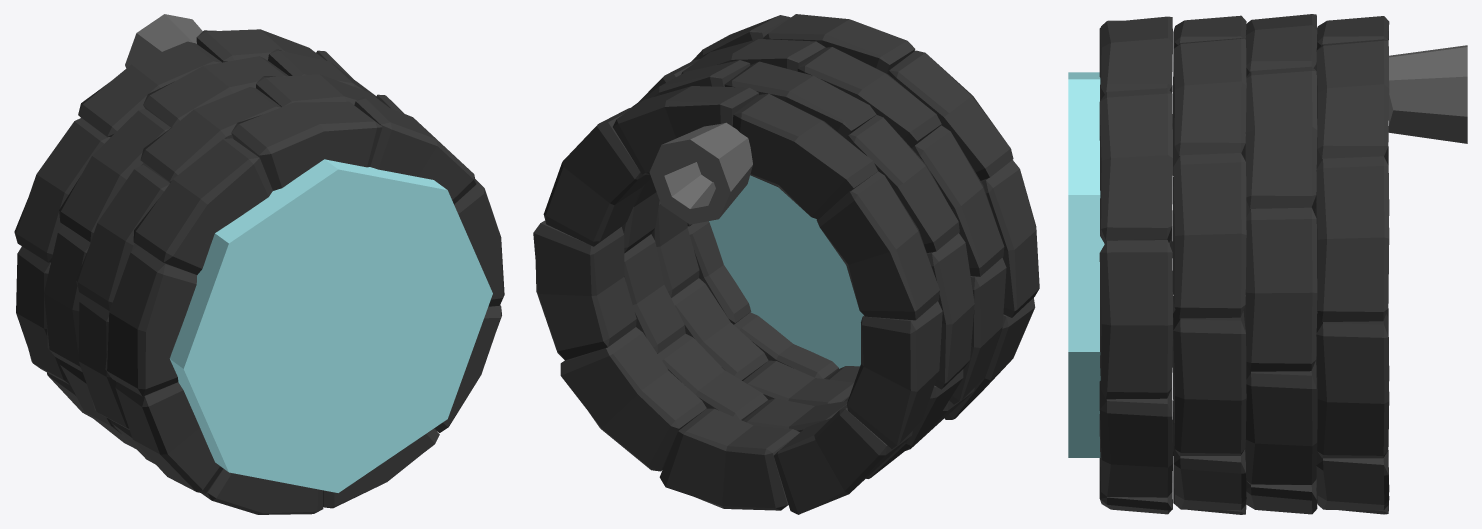
File: well.fbx
The picture shows the model from 3 angles, left to right: view 1: azimuth 30°, elevation 25°; view 2: azimuth 150°, elevation 25°; view 3: azimuth 270°, elevation 25°; orthographic projection. The views are drawn at different scales.
Visible parts, largest first — view 1: Well; view 2: Well; view 3: Well.
Boxes of the visible parts, left/top/right/bottom form: Well: left=14, top=14, right=504, bottom=514; Well: left=533, top=14, right=1039, bottom=514; Well: left=1068, top=14, right=1467, bottom=514.
Bounding box in the file's own units: 34309 × 34449 × 27397.
